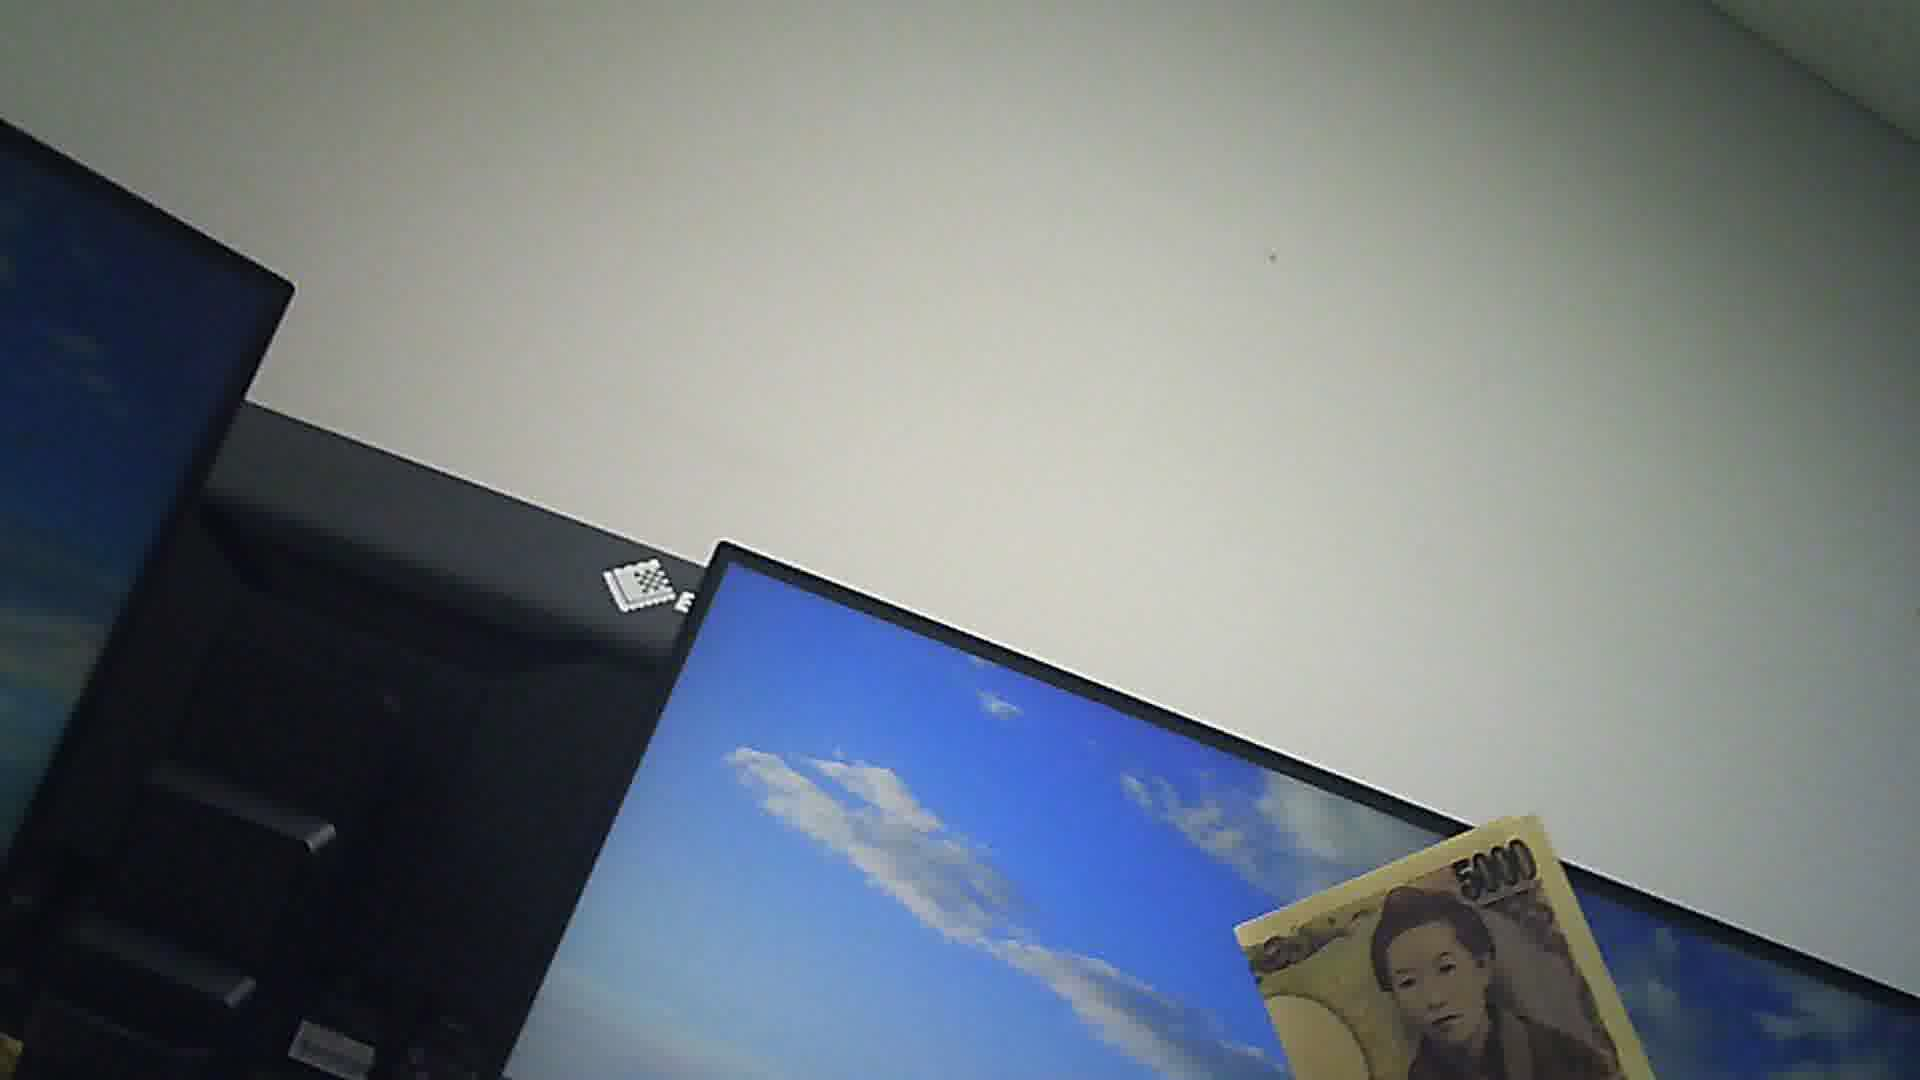5,000 Yen: (1233, 802, 1675, 1077)
